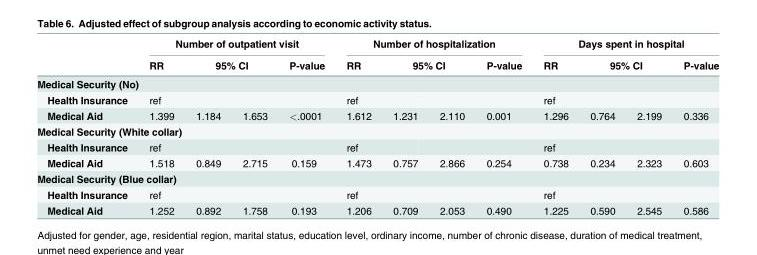table: (36, 37, 718, 215)
table column: (36, 37, 137, 215), (474, 37, 532, 215), (277, 37, 334, 215), (137, 37, 184, 215), (184, 37, 231, 215), (334, 37, 381, 215), (381, 37, 428, 215), (578, 37, 625, 215), (625, 37, 672, 215), (231, 37, 277, 215), (428, 37, 474, 215), (532, 37, 578, 215), (672, 37, 718, 215)
table column header: (36, 37, 718, 107)
table projected row header: (36, 170, 718, 186), (36, 123, 718, 138)
table row: (36, 53, 718, 74), (36, 74, 718, 91), (36, 37, 718, 53), (36, 91, 718, 107), (36, 107, 718, 123), (36, 138, 718, 154), (36, 154, 718, 170), (36, 170, 718, 186), (36, 186, 718, 202), (36, 123, 718, 138), (36, 202, 718, 215)
table spanning cell: (36, 74, 718, 91), (334, 37, 532, 53), (137, 37, 334, 53), (532, 37, 718, 53), (578, 53, 672, 74), (184, 53, 277, 74), (381, 53, 474, 74)
